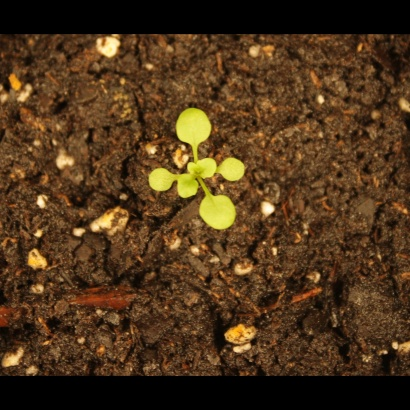leaf: (171, 106, 217, 151), (198, 193, 237, 232), (144, 164, 176, 196), (219, 156, 249, 186), (175, 174, 202, 201), (195, 155, 219, 183)
